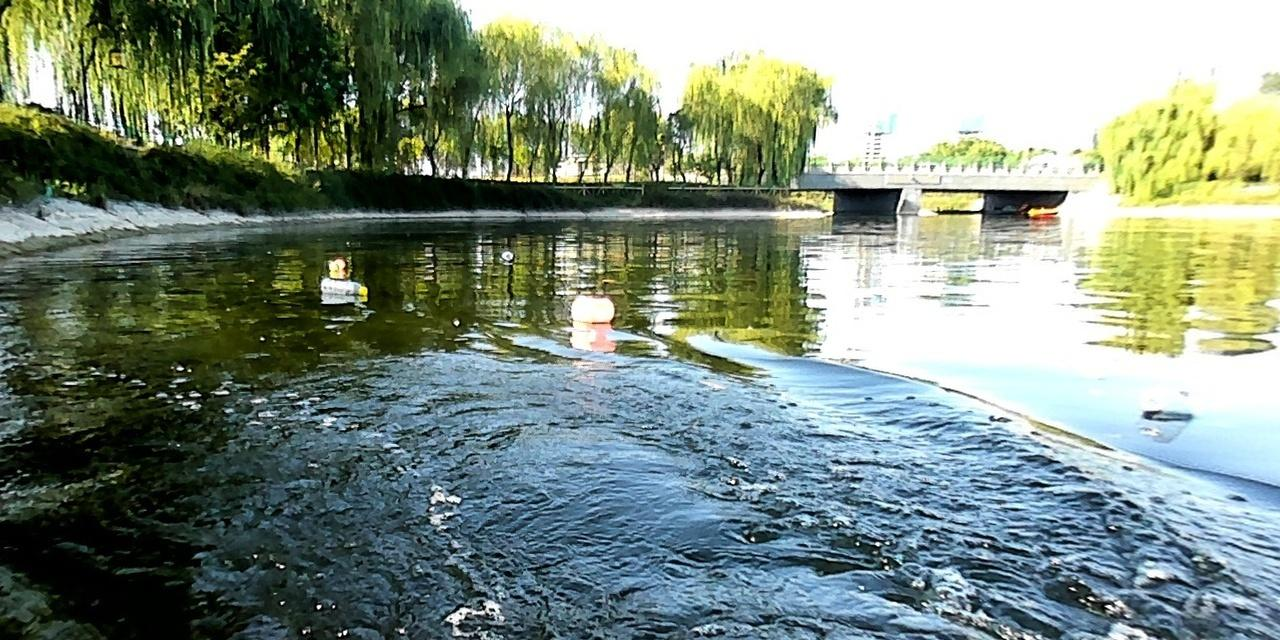bottle: (567, 293, 616, 320), (317, 276, 371, 296), (325, 256, 348, 271), (499, 249, 515, 264)
